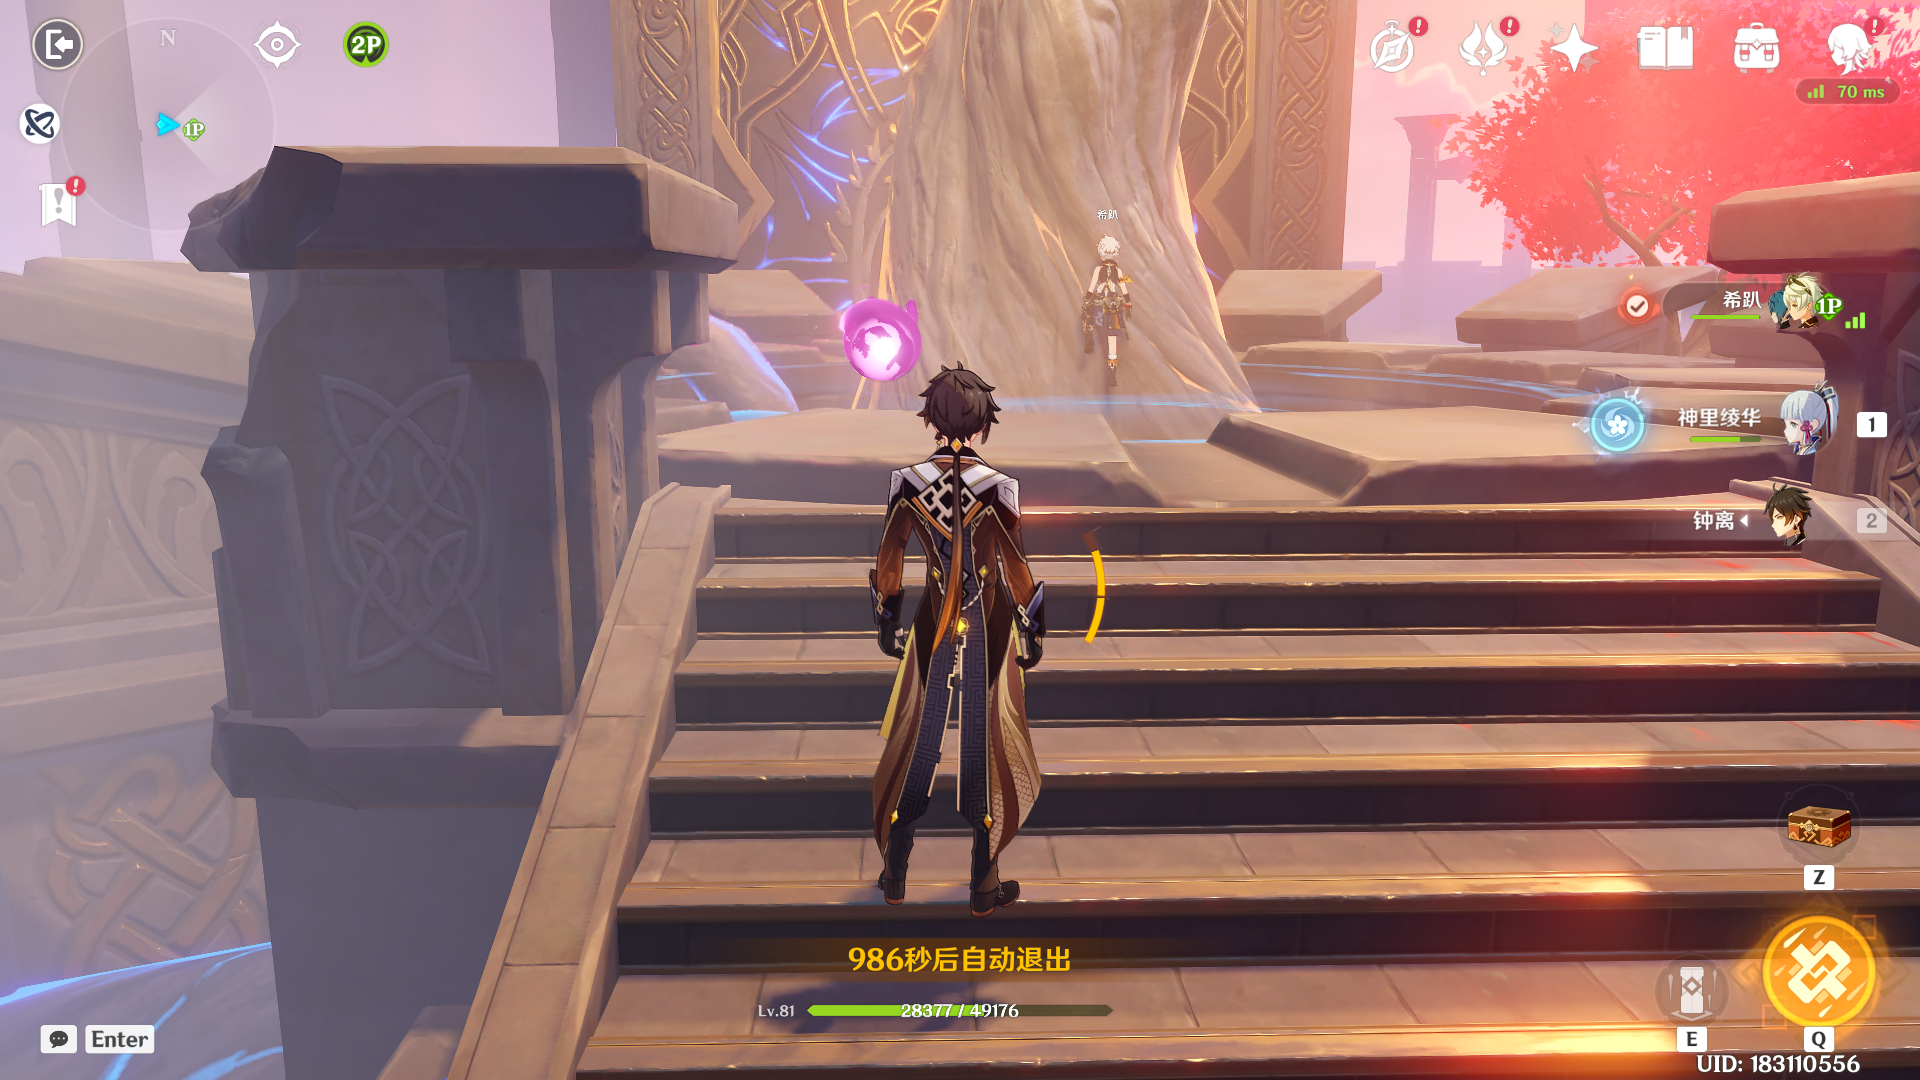character: (840, 348, 1093, 920), (1077, 233, 1151, 396)
